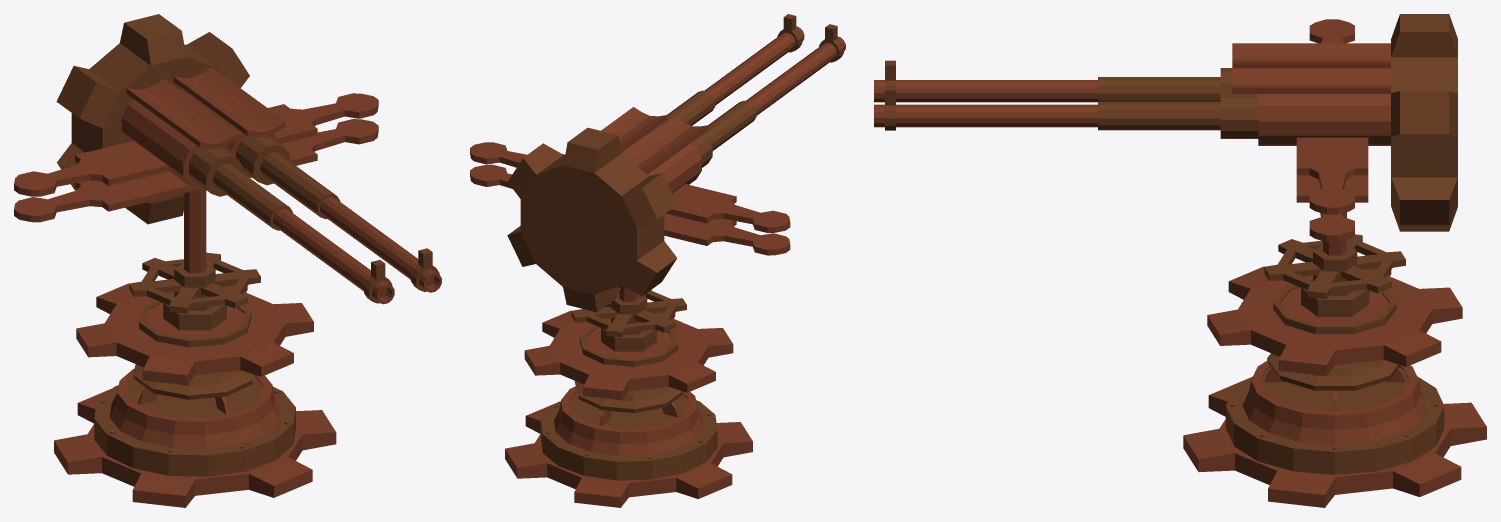
Rendered from Gun_4.glb.
The picture shows the model from 3 angles, left to right: view 1: azimuth 30°, elevation 25°; view 2: azimuth 150°, elevation 25°; view 3: azimuth 270°, elevation 25°; orthographic projection. The views are drawn at different scales.
Visible parts, largest first — view 1: Gun_4_Gun, Gun_4_Base, Gun_4_Mid; view 2: Gun_4_Gun, Gun_4_Base, Gun_4_Mid; view 3: Gun_4_Gun, Gun_4_Base, Gun_4_Mid.
Part boxes in pixels (box(x1,y1,x2,y2)): Gun_4_Gun: box(14, 14, 441, 304); Gun_4_Base: box(54, 295, 336, 507); Gun_4_Mid: box(76, 189, 313, 385); Gun_4_Gun: box(470, 14, 845, 312); Gun_4_Base: box(505, 325, 752, 507); Gun_4_Mid: box(524, 285, 733, 400); Gun_4_Gun: box(874, 14, 1457, 242); Gun_4_Base: box(1183, 279, 1486, 507); Gun_4_Mid: box(1207, 212, 1462, 375).
Size of the model in its own units: 2.02 by 2.12 by 2.78.
